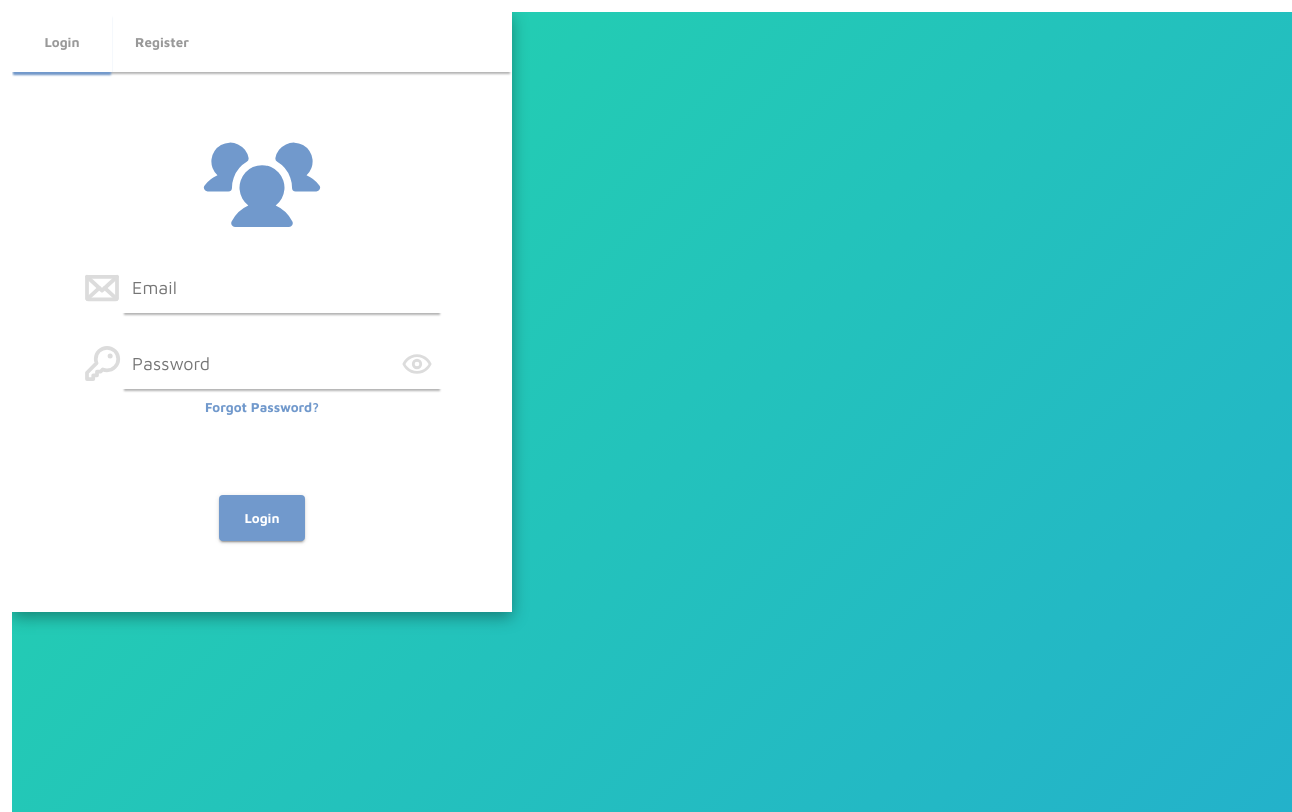
Test: Tests for Login page › Login should handle forgot password
The image size is (1292, 812).
Type "test" into the password field with placeholder "Email" at (282, 288), box [122, 262, 442, 313]
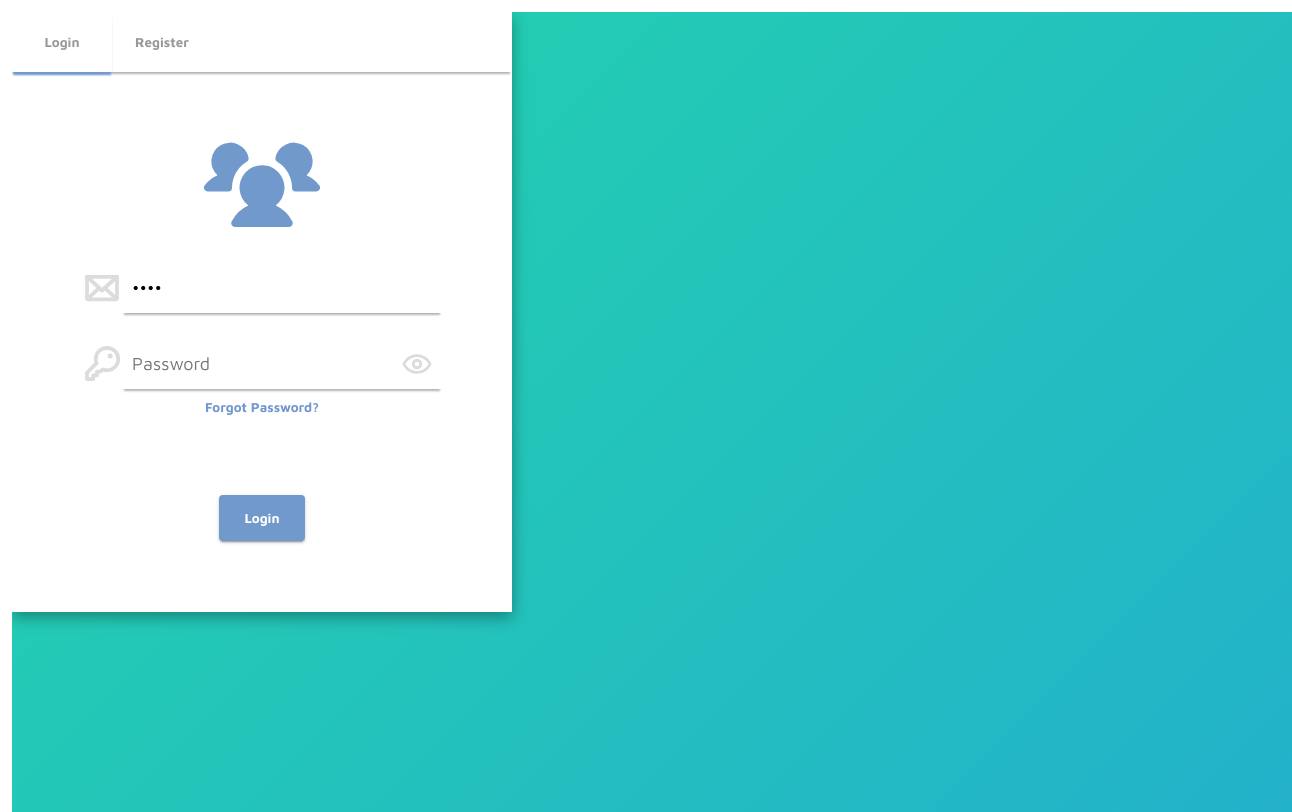
Click the button with test id "forgot-button" showing "Forgot Password?" at (262, 407), box [195, 394, 329, 420]
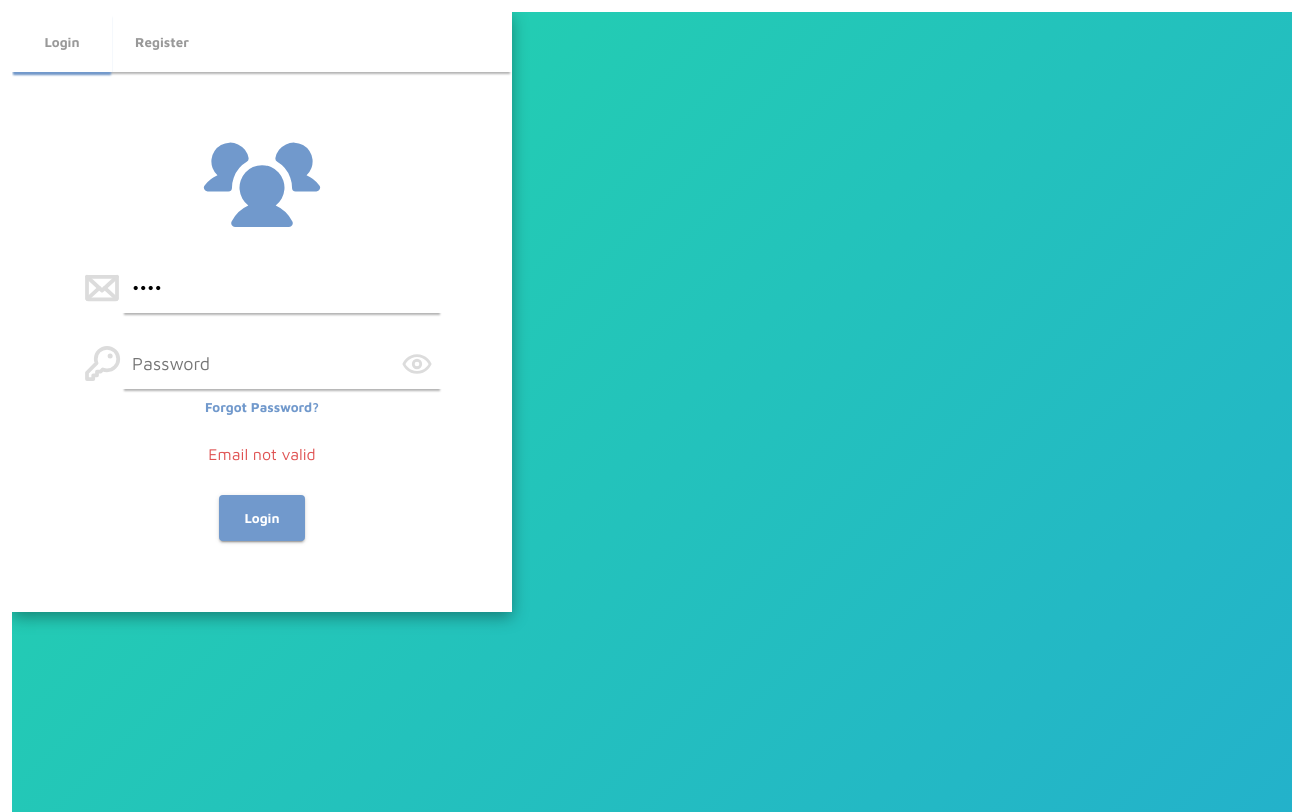
Expected: the text with test id "error" reads "Email not valid", [208, 445, 316, 463]
